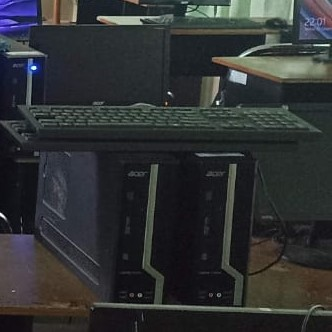monitor: (32, 149, 259, 307), (238, 0, 332, 59), (0, 0, 43, 42), (292, 0, 332, 45)
